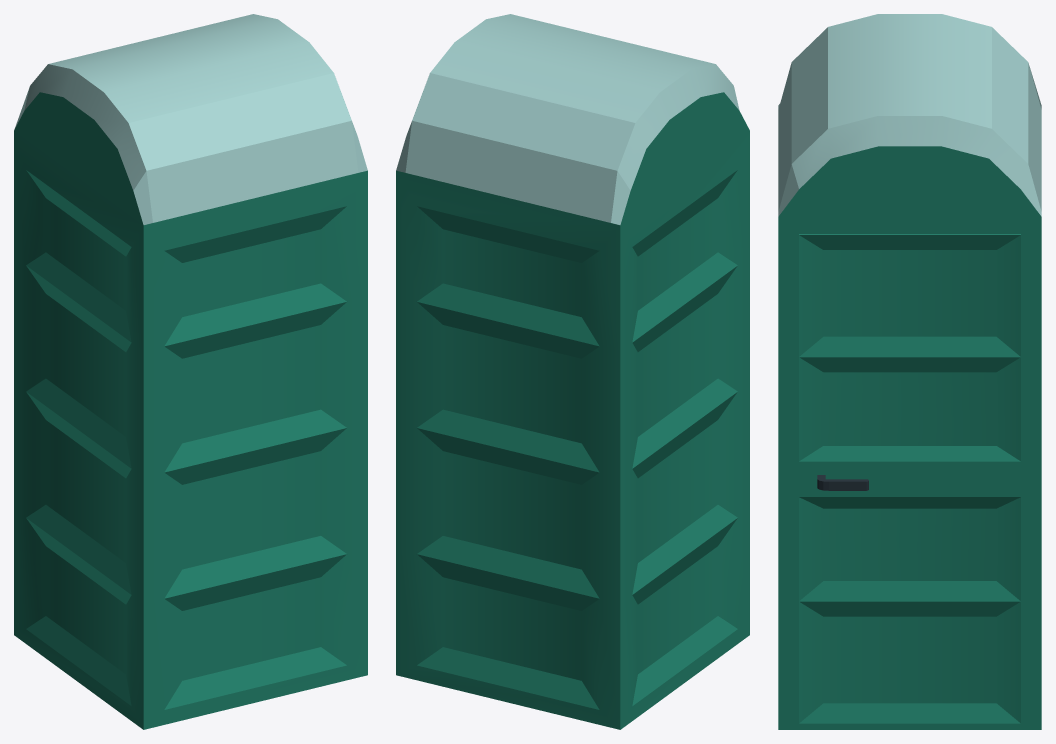
File: Portal_Potty.fbx
The picture shows the model from 3 angles, left to right: view 1: azimuth 30°, elevation 25°; view 2: azimuth 150°, elevation 25°; view 3: azimuth 270°, elevation 25°; orthographic projection.
Parts seen in each view (by area): view 1: PortalPotty; view 2: PortalPotty; view 3: PortalPotty.
Part boxes in pixels (x1,y1,x2,y2): PortalPotty: (14, 14, 367, 729); PortalPotty: (396, 14, 749, 729); PortalPotty: (778, 14, 1041, 729).
Size of the model in its own units: 178 by 423 by 166.
